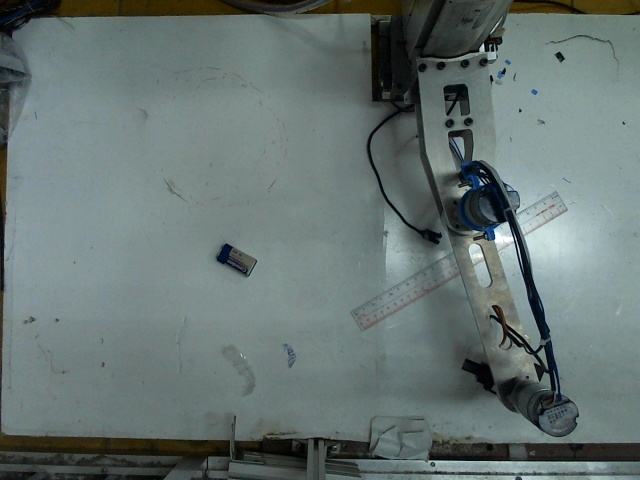battery: (213, 237, 257, 283)
